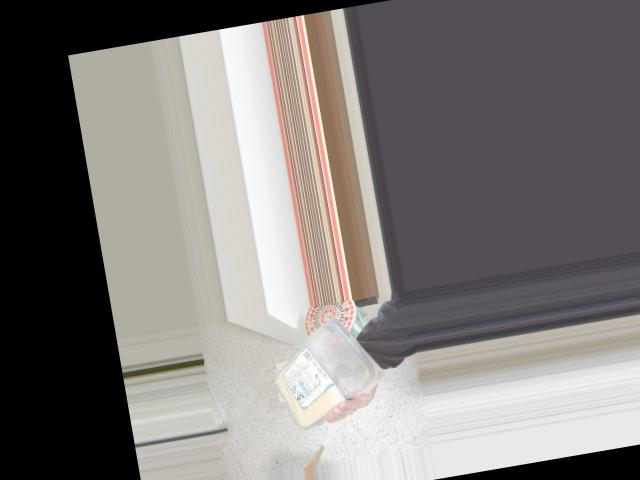cheese: (256, 311, 376, 422)
